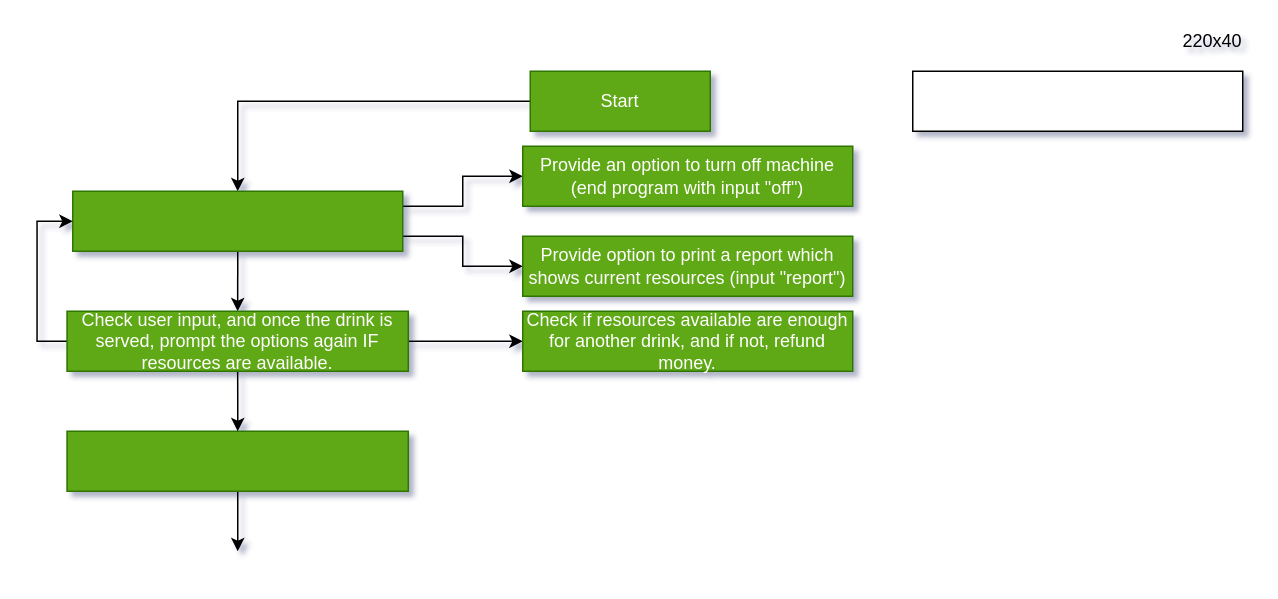
This 1278x599 diagram has some shape labels left out. Here are the shapes that lost their labels. From the top down, the centre of each, then its label:
At point 237,220: "Provide 3 coffee options (espresso, cappuccino, latte (input 'e', 'c', 'l'))".
At point 237,460: "Ask for how much of each coin to use: Quarters, Dimes, Nickels and Pennies.".
